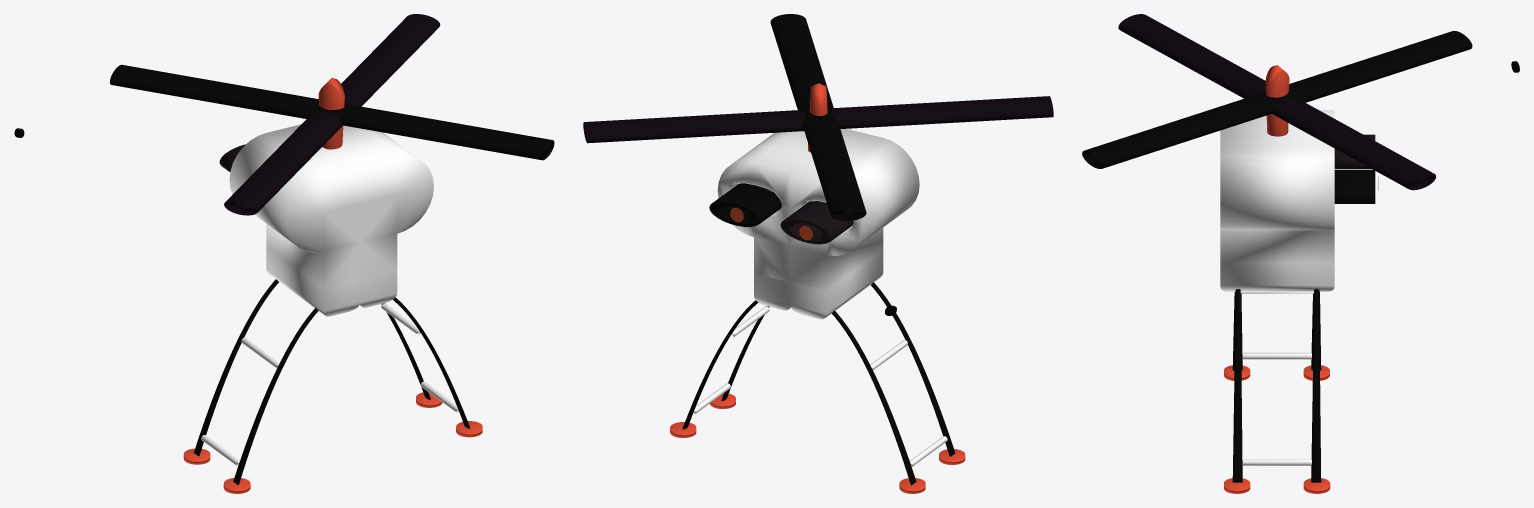
The model's file is Drone_helicopter.fbx.
3 renders of one model, left to right at view 1: azimuth 30°, elevation 25°; view 2: azimuth 150°, elevation 25°; view 3: azimuth 270°, elevation 25°, orthographic.
Parts seen in each view (by area): view 1: Cube, Cylinder.001, Cylinder.002, Cylinder.021, Cylinder.022, Cylinder; view 2: Cube, Cylinder.002, Cylinder.001, Cylinder.020, Cylinder.019, Cylinder.022, Cylinder.021, Cylinder; view 3: Cube, Cylinder.001, Cylinder.002, Cylinder.021, Cylinder.022, Cylinder.020, Cylinder, Cylinder.024, Cylinder.026.
Part boxes in pixels (x1,y1,x2,y2): Cube: [229, 124, 433, 316]; Cylinder.001: [109, 64, 554, 160]; Cylinder.002: [224, 14, 440, 215]; Cylinder.021: [233, 297, 470, 484]; Cylinder.022: [194, 279, 430, 456]; Cylinder: [318, 78, 344, 149]; Cube: [717, 128, 919, 319]; Cylinder.002: [583, 96, 1053, 143]; Cylinder.001: [770, 14, 866, 221]; Cylinder.020: [709, 183, 781, 226]; Cylinder.019: [780, 201, 853, 244]; Cylinder.022: [682, 300, 916, 485]; Cylinder.021: [721, 282, 955, 456]; Cylinder: [808, 83, 827, 152]; Cube: [1220, 110, 1334, 293]; Cylinder.001: [1082, 31, 1472, 168]; Cylinder.002: [1118, 14, 1435, 190]; Cylinder.021: [1232, 289, 1242, 482]; Cylinder.022: [1311, 289, 1321, 482]; Cylinder.020: [1334, 169, 1375, 203]; Cylinder: [1265, 65, 1289, 136]; Cylinder.024: [1243, 459, 1311, 465]; Cylinder.026: [1243, 353, 1311, 359].
Bounding box in the file's own units: 1352 × 1283 × 1385.
